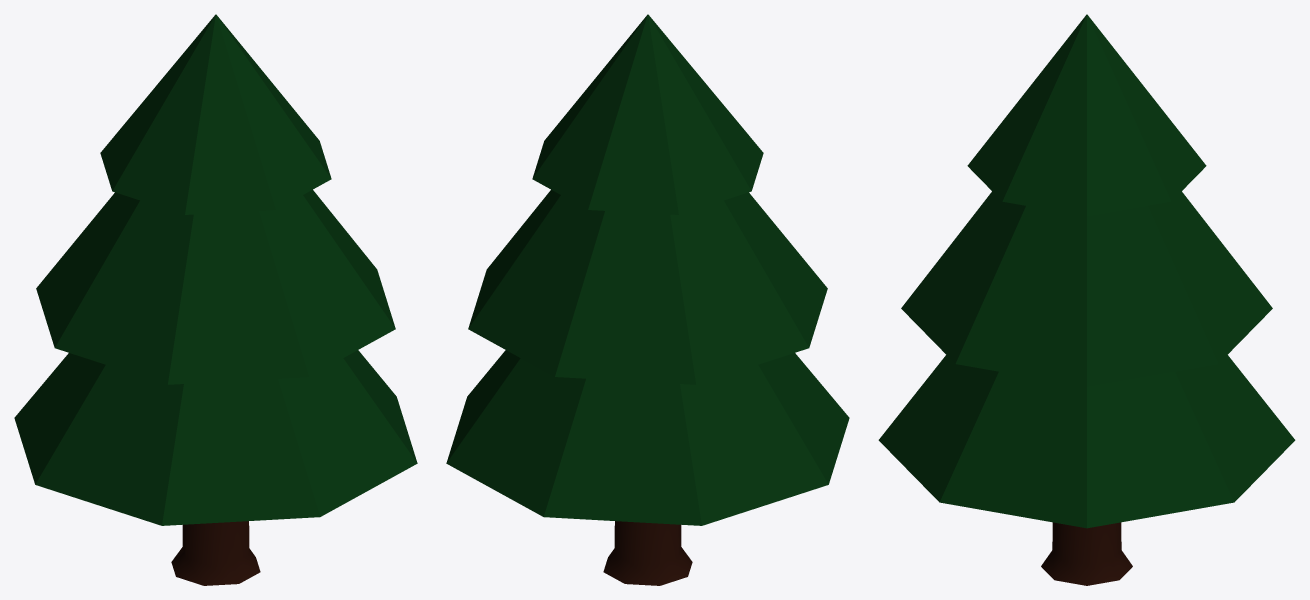
The model's file is kuusi2.fbx.
The picture shows the model from 3 angles, left to right: view 1: azimuth 30°, elevation 25°; view 2: azimuth 150°, elevation 25°; view 3: azimuth 270°, elevation 25°; orthographic projection.
Parts seen in each view (by area): view 1: kuusi1; view 2: kuusi1; view 3: kuusi1.
Part boxes in pixels (box(x1,y1,x2,y2)): kuusi1: box(14, 14, 417, 585); kuusi1: box(446, 14, 849, 585); kuusi1: box(878, 14, 1295, 585).
Size of the model in its own units: 719 by 1051 by 719.
